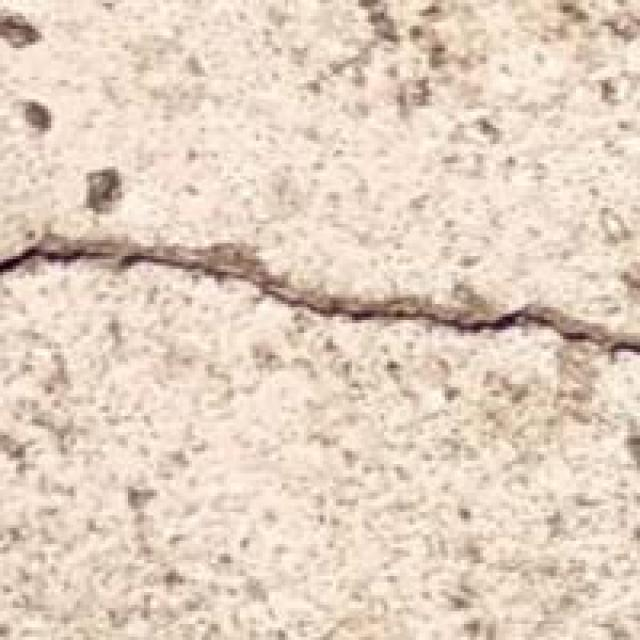crack: (0, 179, 637, 416)
